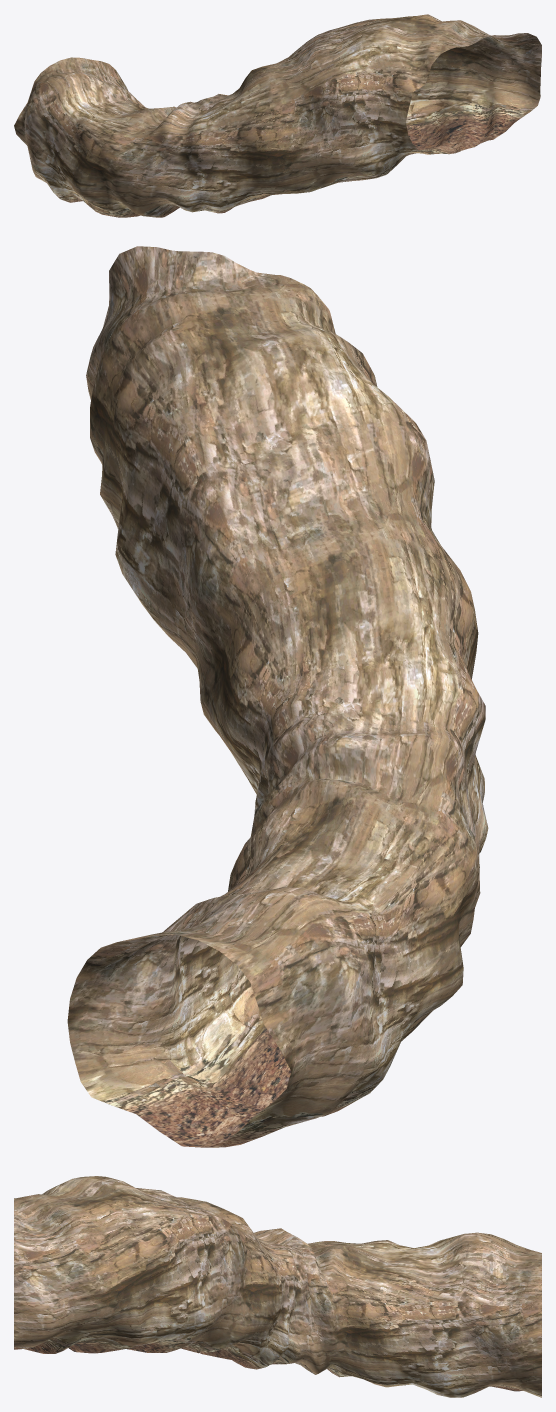
File: thm_tato_cave_s02_r7_mesh_r7.fbx
The picture shows the model from 3 angles, top to bottom: view 1: azimuth 30°, elevation 25°; view 2: azimuth 150°, elevation 25°; view 3: azimuth 270°, elevation 25°; orthographic projection. The views are drawn at different scales.
Parts seen in each view (by area): view 1: mesh_node; view 2: mesh_node; view 3: mesh_node.
Boxes of the visible parts, x1,y1,x2,y2 form: mesh_node: [14, 14, 541, 217]; mesh_node: [67, 246, 488, 1147]; mesh_node: [14, 1176, 541, 1397].
Bounding box in the file's own units: 31.52 × 22.78 × 37.2.
